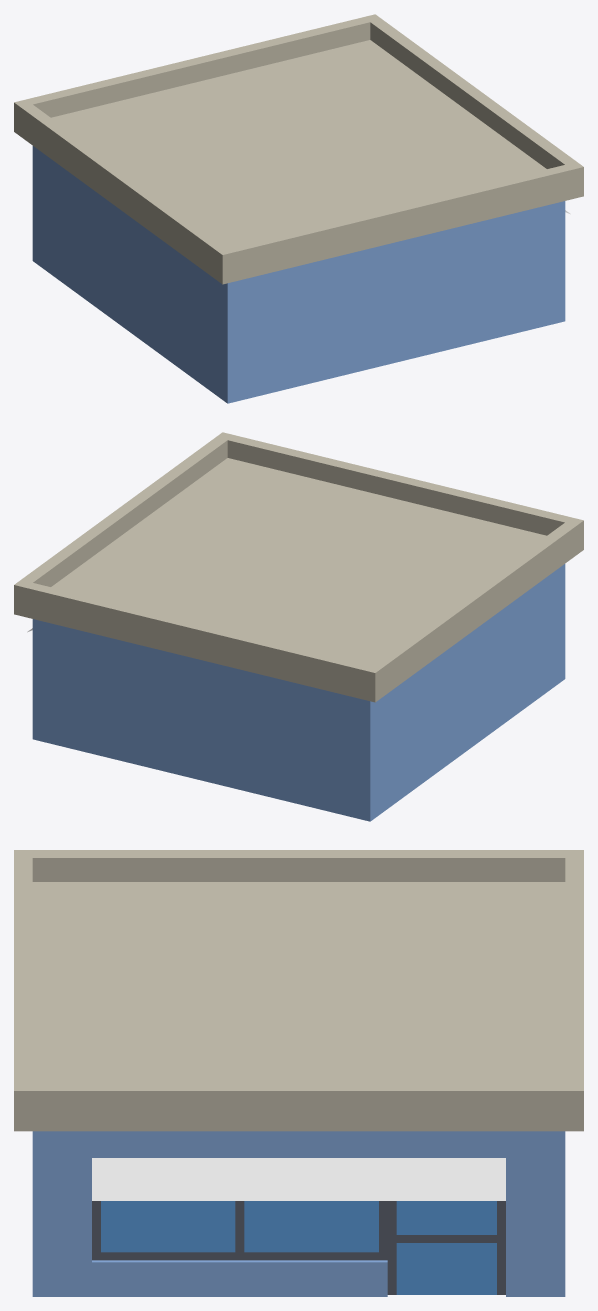
File: cafe_b1.fbx
3 views of the same model, one above another, from view 1: azimuth 30°, elevation 25°; view 2: azimuth 150°, elevation 25°; view 3: azimuth 270°, elevation 25° (orthographic). The views are drawn at different scales.
Parts seen in each view (by area): view 1: Cafe3.001; view 2: Cafe3.001; view 3: Cafe3.001.
Part boxes in pixels (x1=…): Cafe3.001: x1=14, y1=14, x2=583, y2=403; Cafe3.001: x1=14, y1=432, x2=583, y2=821; Cafe3.001: x1=14, y1=850, x2=583, y2=1296.
Bounding box in the file's own units: 6712 × 2660 × 6424.
